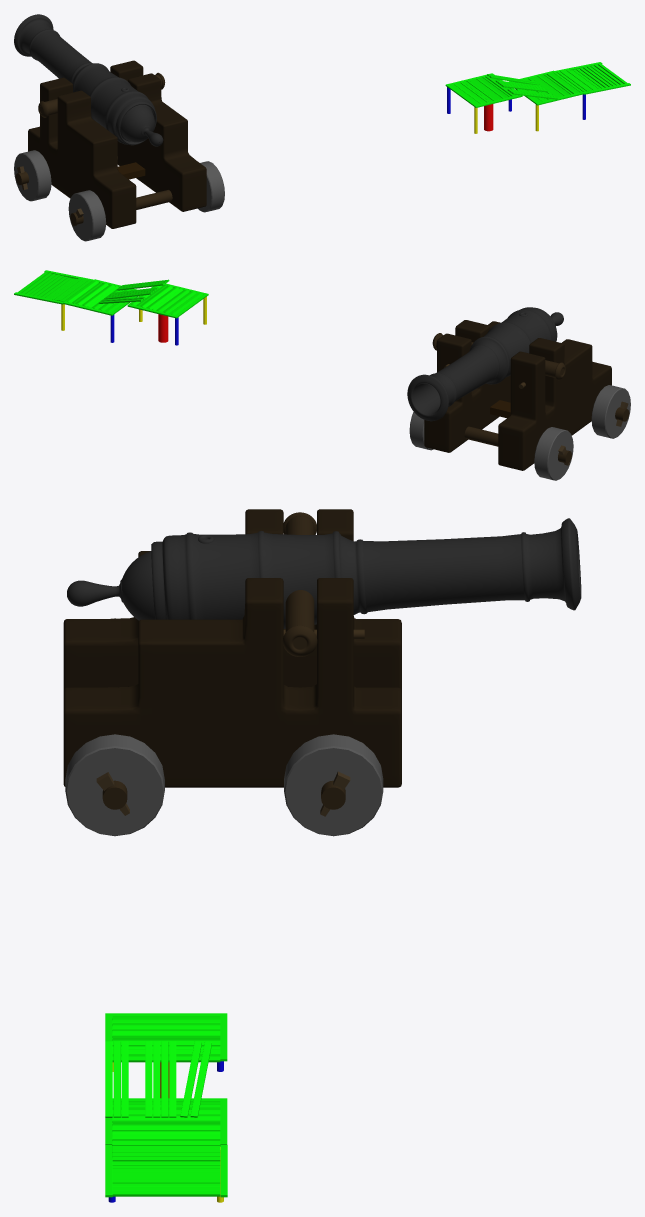
File: cannon and dock.fbx
The picture shows the model from 3 angles, top to bottom: view 1: azimuth 30°, elevation 25°; view 2: azimuth 150°, elevation 25°; view 3: azimuth 270°, elevation 25°; orthographic projection. The views are drawn at different scales.
Parts seen in each view (by area): view 1: Cannon, Dock; view 2: Cannon, Dock; view 3: Cannon, Dock.
Boxes of the visible parts, left/top/right/bottom form: Cannon: left=14, top=14, right=224, bottom=241; Dock: left=445, top=62, right=630, bottom=133; Cannon: left=407, top=307, right=630, bottom=480; Dock: left=14, top=270, right=208, bottom=345; Cannon: left=63, top=509, right=581, bottom=836; Dock: left=105, top=1013, right=227, bottom=1202.
Size of the model in its own units: 47.38 by 10.34 by 19.14.
